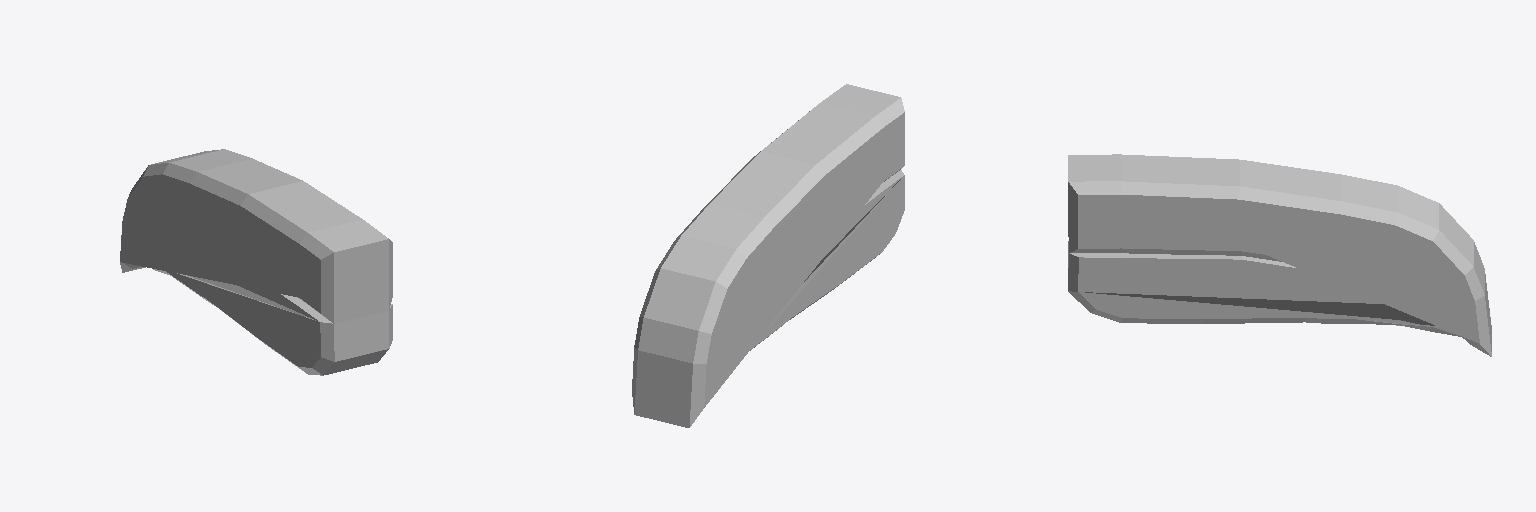
File: bico.obj
3 renders of one model, left to right at view 1: azimuth 30°, elevation 25°; view 2: azimuth 150°, elevation 25°; view 3: azimuth 270°, elevation 25°, orthographic.
Visible parts, largest first — view 1: bico_Cube.005; view 2: bico_Cube.005; view 3: bico_Cube.005.
Boxes of the visible parts, x1=… form: bico_Cube.005: x1=120, y1=149, x2=392, y2=375; bico_Cube.005: x1=632, y1=84, x2=904, y2=427; bico_Cube.005: x1=1068, y1=154, x2=1491, y2=356.
Size of the model in its own units: 0.2151 by 0.5008 by 1.09.